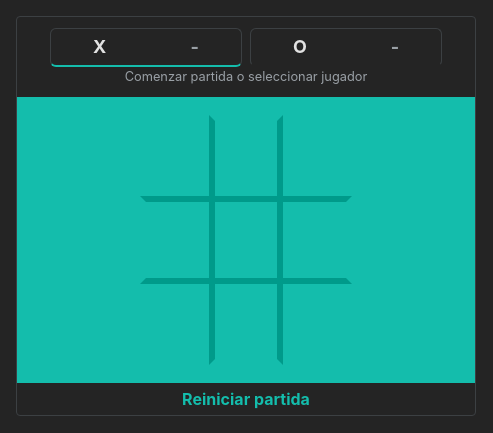
Test: Victorias en el juego › La X gana el juego
The image size is (493, 433).
Step 1. Click the 1st list item → (177, 159), box x1=140 y1=116 x2=215 y2=202
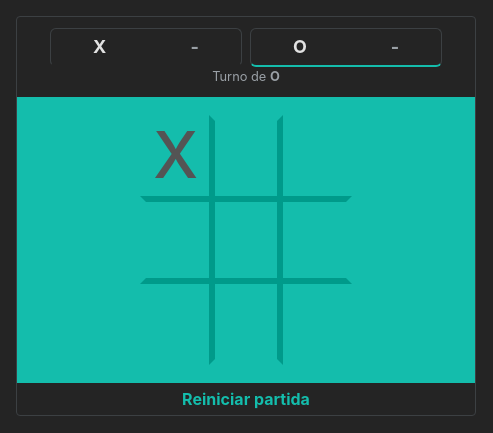
Step 2. Click the 5th list item → (246, 240), box x1=209 y1=196 x2=283 y2=284
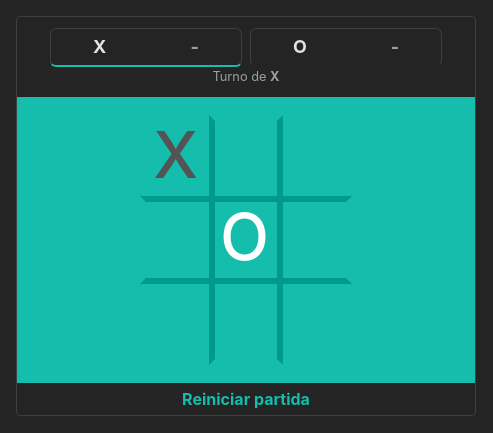
Step 3. Click the 2nd list item → (246, 159), box x1=209 y1=116 x2=283 y2=202
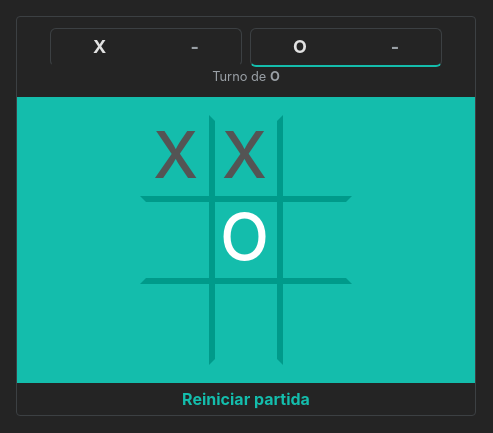
Step 4. Click the 4th list item → (177, 240), box x1=140 y1=196 x2=215 y2=284
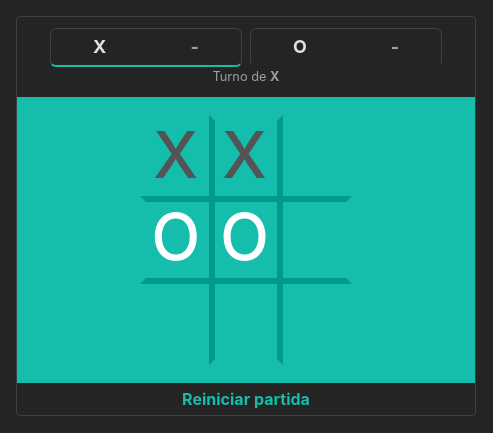
Step 5. Click the 3rd list item → (315, 159), box x1=277 y1=116 x2=352 y2=202
Wait 1500 ms
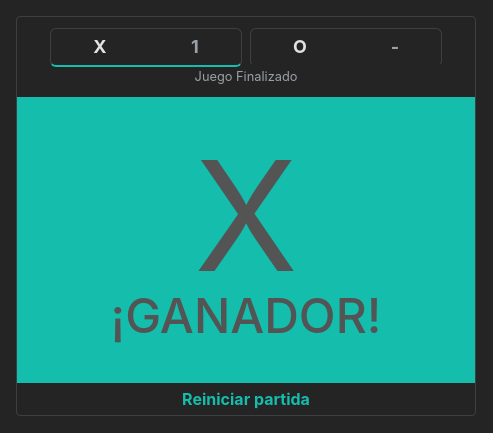
Result: the heading "X" is shown at x1=194 y1=140 x2=298 y2=292
Result: the text "¡GANADOR!" is shown at x1=111 y1=292 x2=381 y2=340
Result: the text "1" is shown at x1=191 y1=33 x2=199 y2=61
